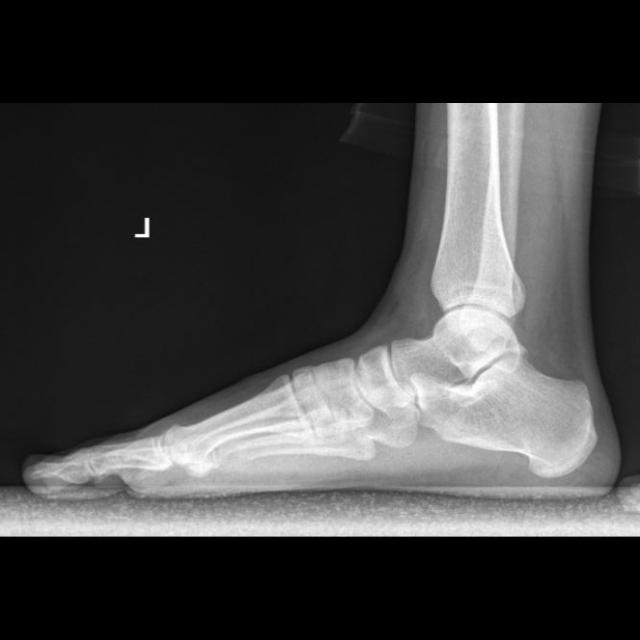a: (413, 354, 597, 480)
b: (355, 344, 411, 416)
c: (165, 375, 309, 474)
